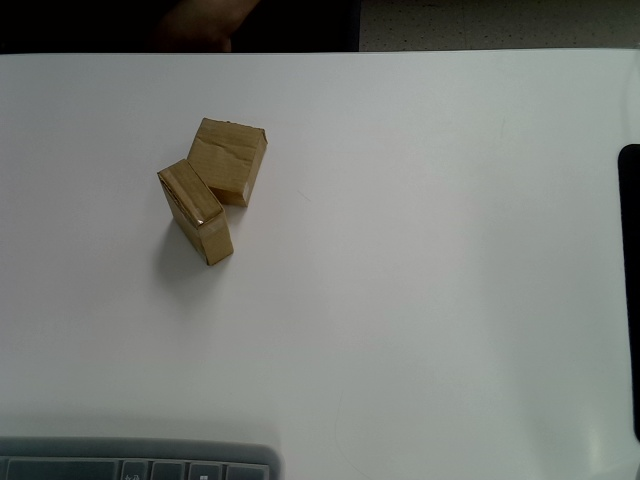normal: (156, 159, 235, 267), (186, 117, 268, 207)
